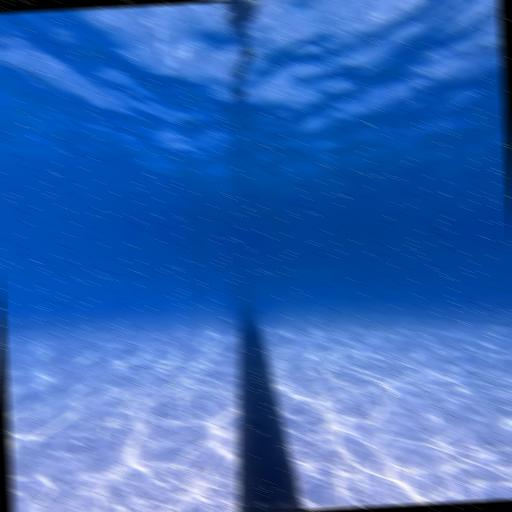gate: (192, 208, 288, 329)
